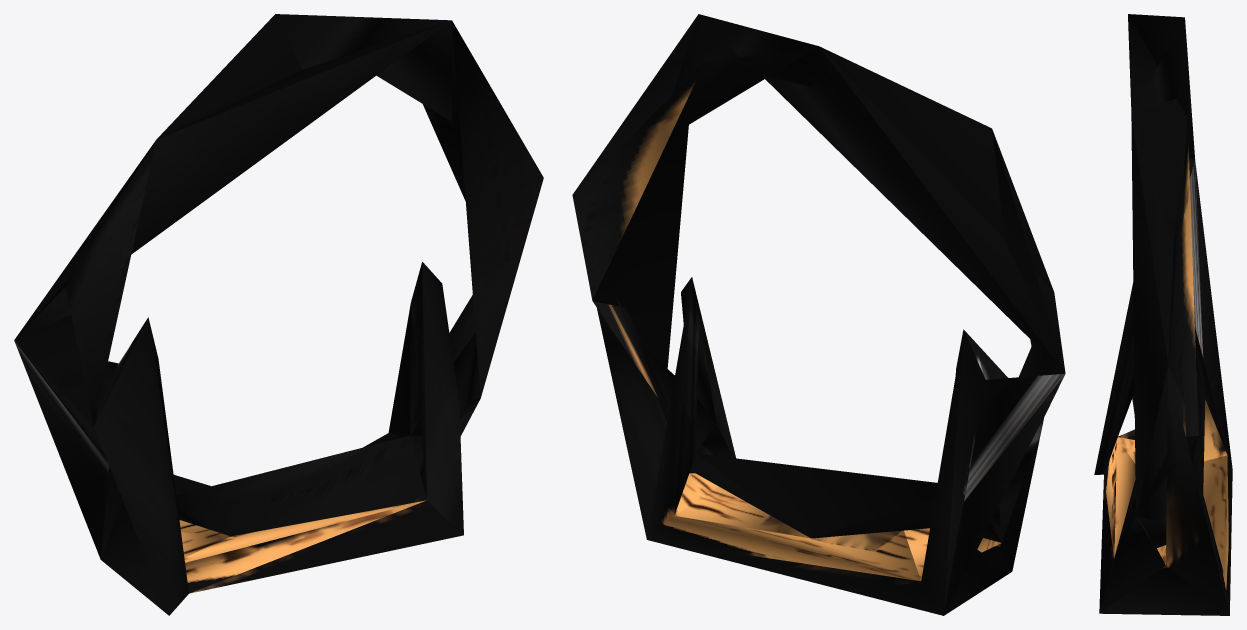
The model's file is brickloft-steel-mirror.glb.
3 renders of one model, left to right at view 1: azimuth 30°, elevation 25°; view 2: azimuth 150°, elevation 25°; view 3: azimuth 270°, elevation 25°, orthographic.
Visible parts, largest first — view 1: geometry_0; view 2: geometry_0; view 3: geometry_0.
Part boxes in pixels (x1,y1,x2,y2): geometry_0: [14, 14, 543, 615]; geometry_0: [572, 14, 1065, 615]; geometry_0: [1094, 14, 1232, 615].
Size of the model in its own units: 1.03 by 1.01 by 0.2383.
1 material, 1 textured.
